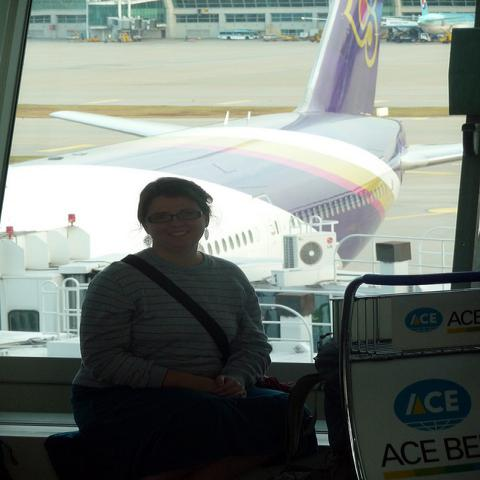bus: (218, 31, 254, 40)
